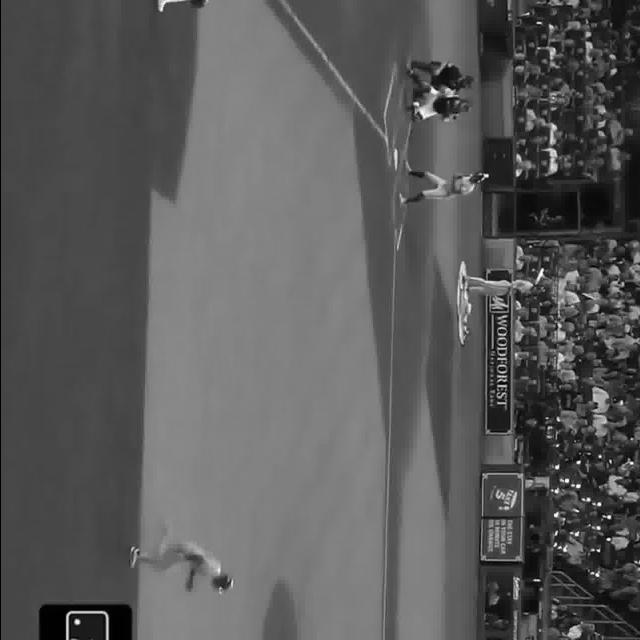base: (391, 148, 399, 170)
bat: (527, 265, 546, 302), (451, 171, 490, 181)
shoe: (402, 100, 418, 113), (127, 548, 137, 568), (396, 193, 406, 207), (404, 159, 412, 175), (404, 65, 412, 78)
